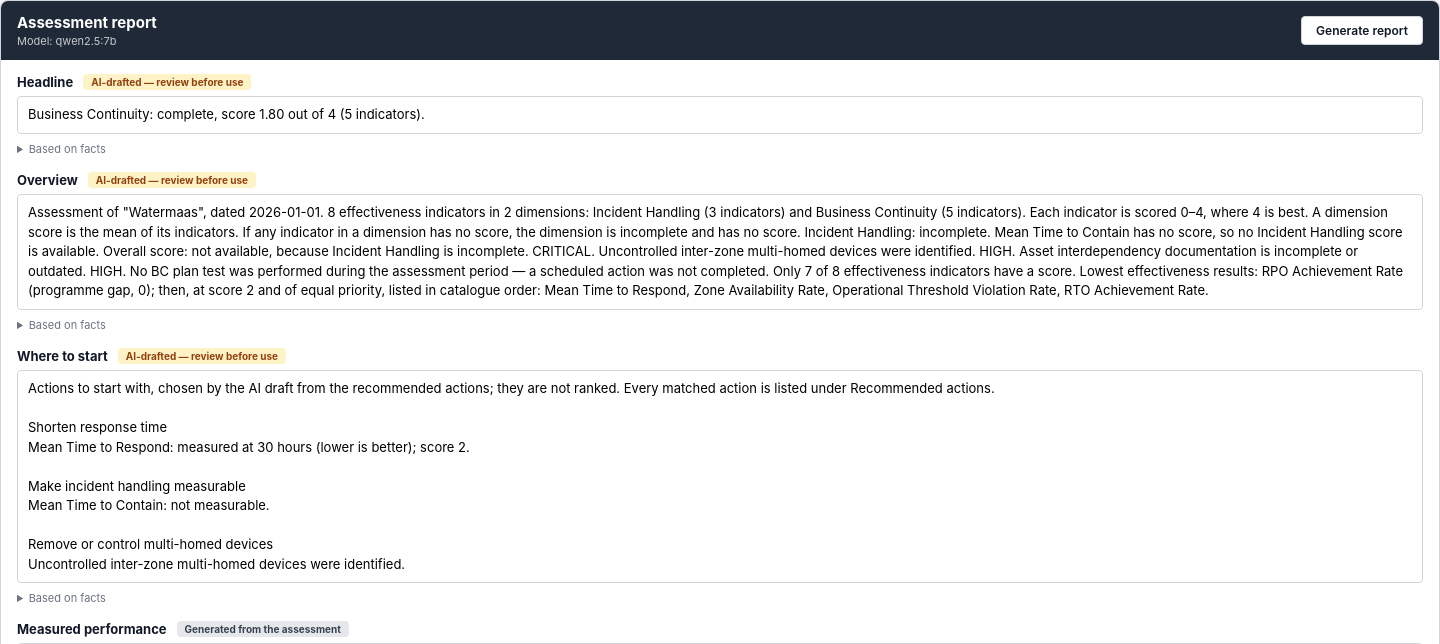
Scenario: ok › editing a part makes its label "Edited"; the others keep theirs
The width and height of the screenshot is (1440, 644).
Step 1. Replace the text in the text box named "Overview" with "Edited overview text." → (720, 252), box top-left (17, 194), bottom-right (1423, 310)
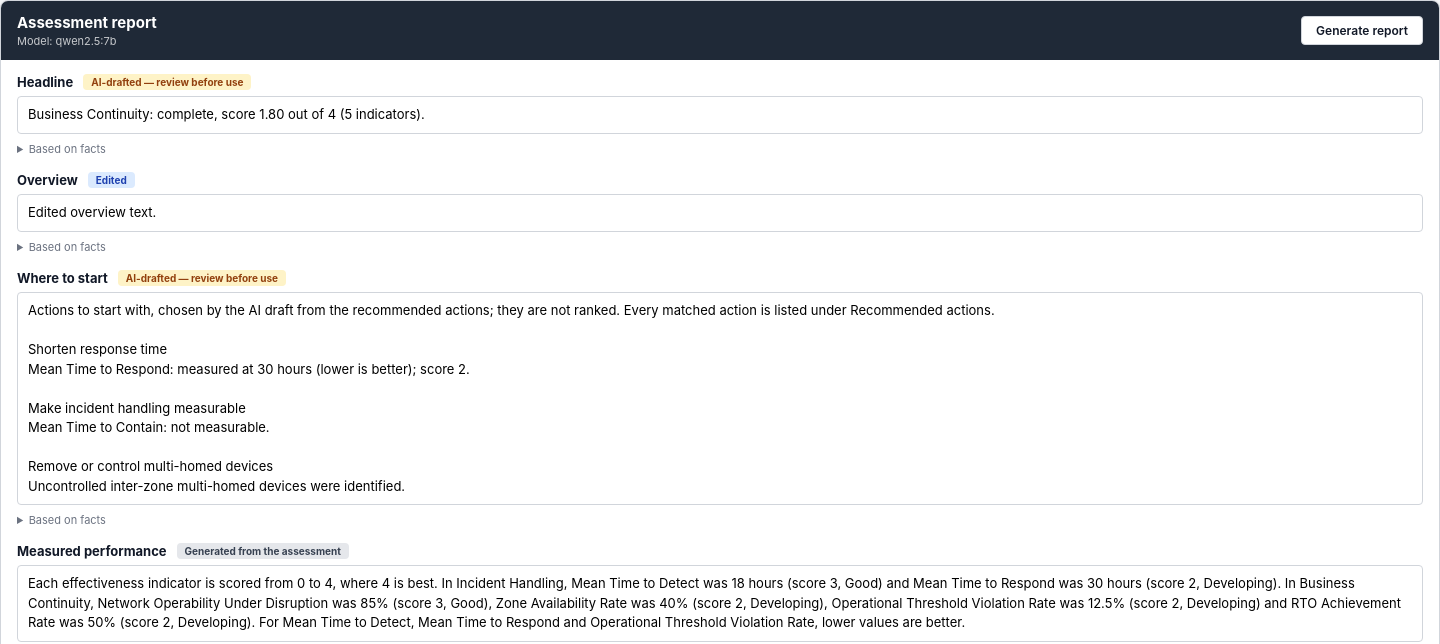
Expected: the text with test id "narrative-label" next to "Headline" reads "AI-drafted — review before use", top-left (91, 76), bottom-right (244, 88)
Result: the text with test id "narrative-label" reads "Edited" at top-left (96, 174), bottom-right (127, 186)
